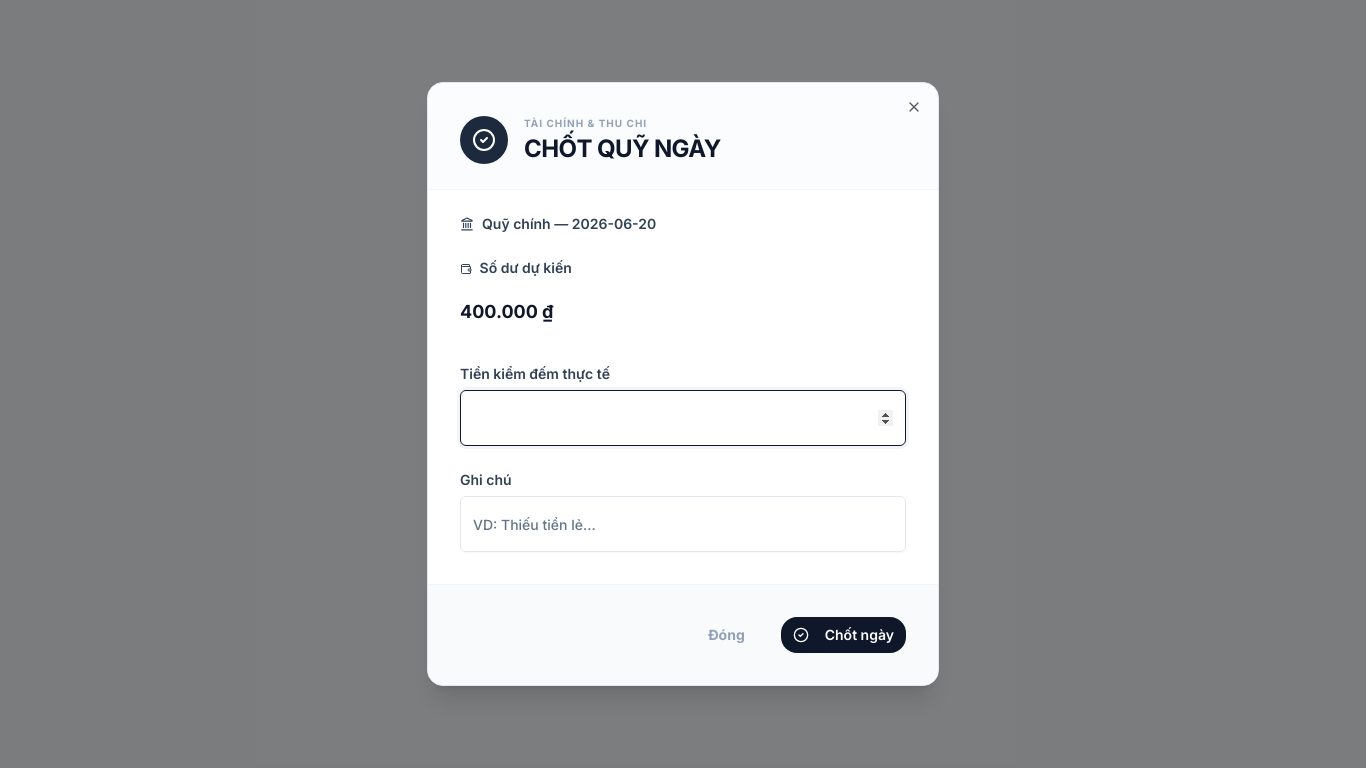
Test: DailyCloseDialog › shows expected cash from the preview query and submits counted cash + notes
Expected: the text "400.000 ₫" is shown, [460,301,553,322]
In the number field labelled "Tiền kiểm đếm thực tế": (683, 418) [460,390,906,446], type "390000"
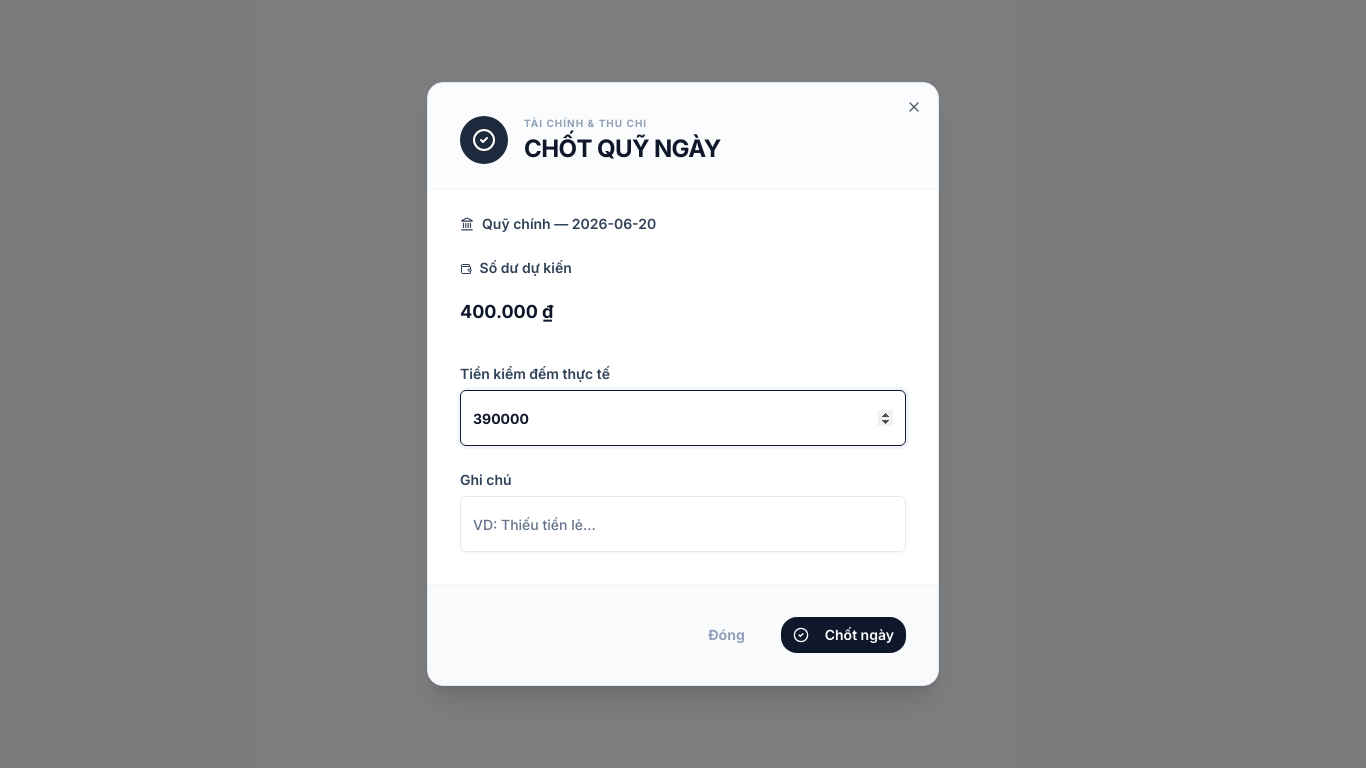
In the field labelled "Ghi chú": (683, 524) [460,496,906,552], type "Thiếu tiền lẻ"
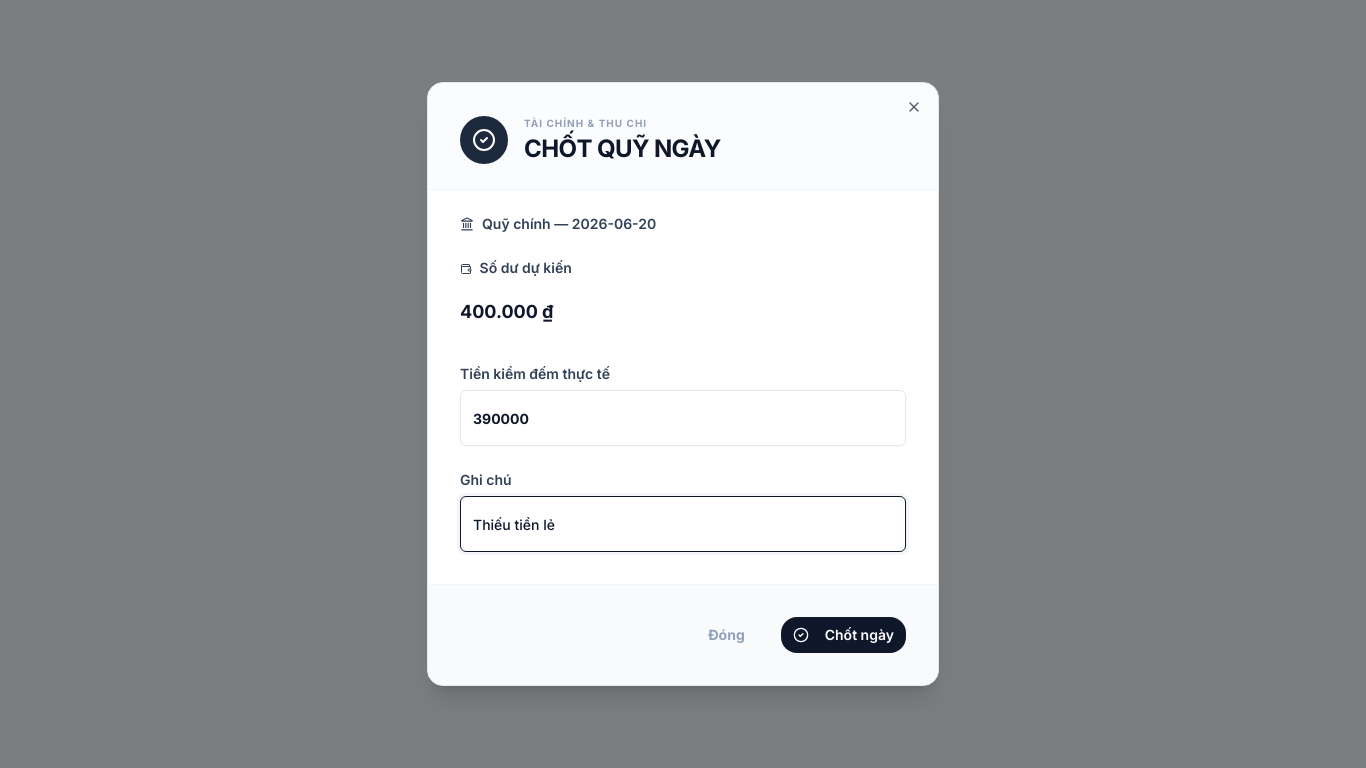
Click the button "Chốt ngày": click(843, 635) [781,617,906,653]
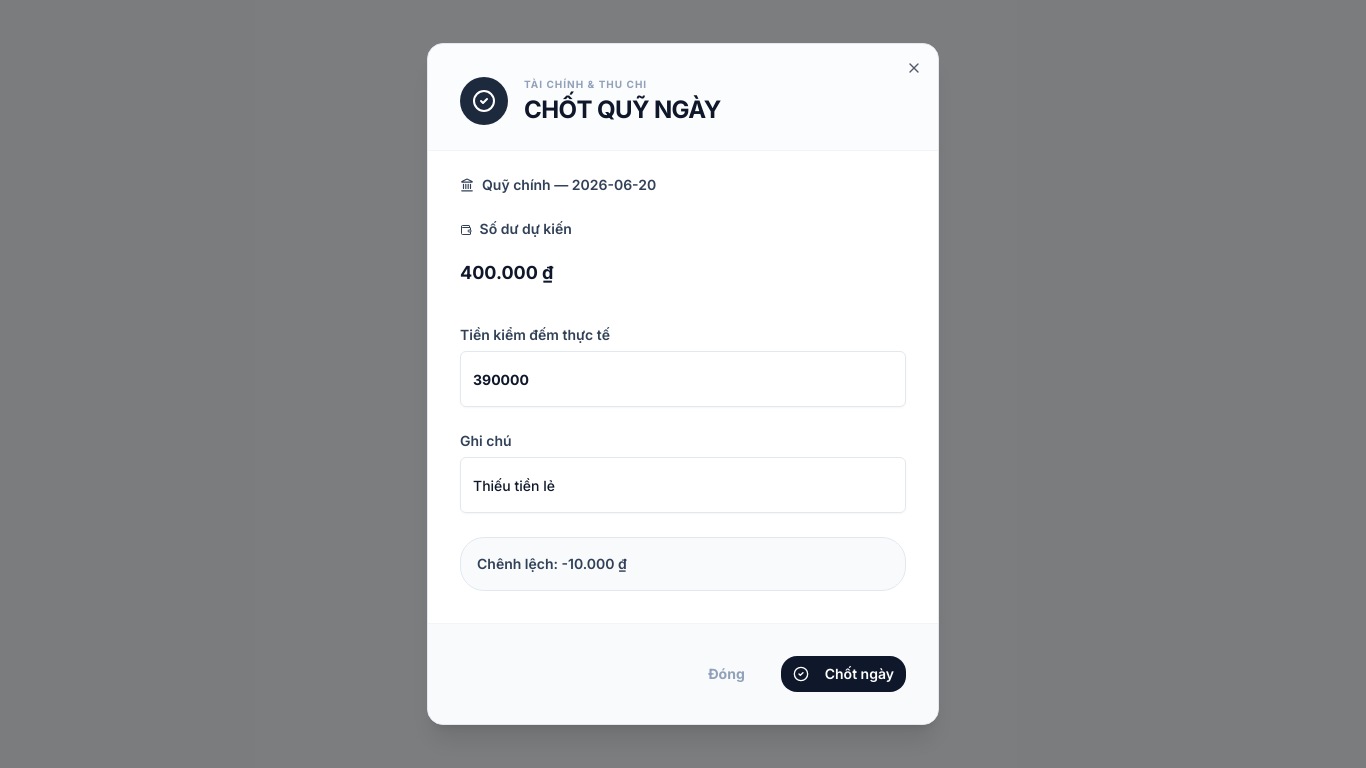
Result: the text "Chênh lệch: -10.000 ₫" is shown at [460,537,906,591]
